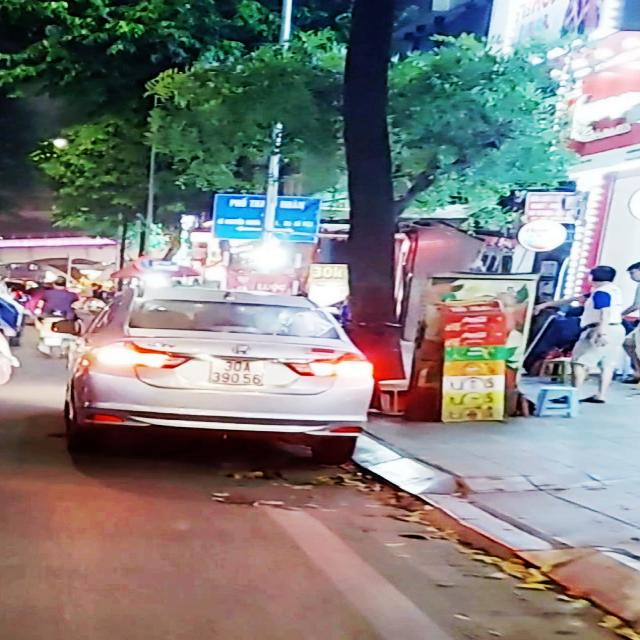license_plate: (207, 358, 268, 387)
